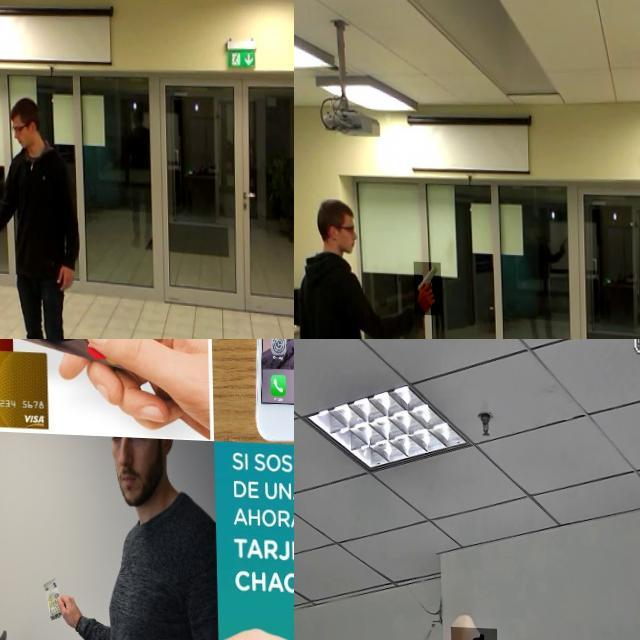gun-knife-thesis - v11 Yolov5 augmented: (412, 260, 440, 314), (0, 211, 17, 248)
